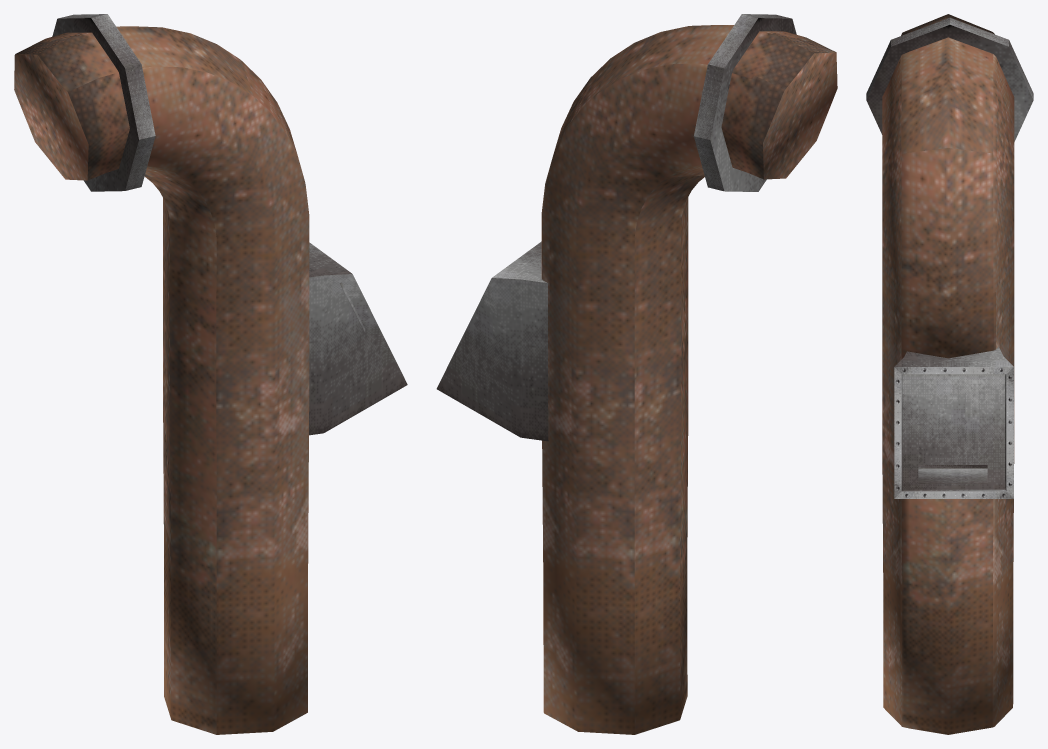
File: GarbageDispenser.fbx
3 renders of one model, left to right at view 1: azimuth 30°, elevation 25°; view 2: azimuth 150°, elevation 25°; view 3: azimuth 270°, elevation 25°, orthographic. The views are drawn at different scales.
Visible parts, largest first — view 1: Cube.001; view 2: Cube.001; view 3: Cube.001, Cube.002.
Boxes of the visible parts, x1,y1,x2,y2 form: Cube.001: (14, 14, 407, 734); Cube.001: (436, 14, 837, 734); Cube.001: (866, 14, 1033, 734); Cube.002: (902, 374, 1005, 489).
Bounding box in the file's own units: 235 × 477 × 115.
